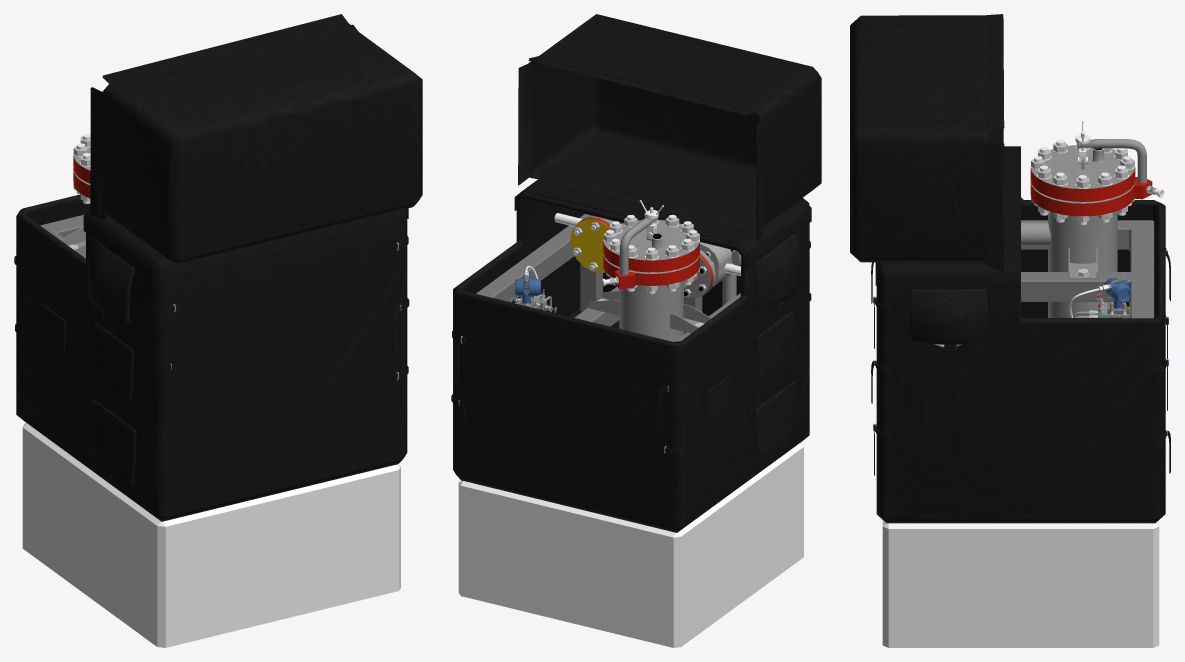
The model's file is Filter_Interactive.fbx.
3 views of the same model, side by side, from view 1: azimuth 30°, elevation 25°; view 2: azimuth 150°, elevation 25°; view 3: azimuth 270°, elevation 25° (orthographic). The views are drawn at different scales.
Parts seen in each view (by area): view 1: Filter_Interactive, Box_Cover_interactive, Box_Cover_Main_Up, Filter_Cap_Down, Box_Armature; view 2: Filter_Interactive, Box_Cover_interactive, Filter_Cap_Down, Box_Cover_Main_Up, Box_Armature, Filter_Cap_UP, Pipe_connector.002, Pipe_crane.016, Filter_Cap_Rotartor, IP.001; view 3: Filter_Interactive, Box_Cover_interactive, Filter_Cap_Down, Box_Cover_Main_Up, Box_Armature, Filter_Cap_UP, Filter_Cap_Rotartor, IP.001, Pipe_connector.002, Cube.200.
Part boxes in pixels (box(x1,y1,x2,y2)): Filter_Interactive: box(14, 194, 409, 647); Box_Cover_interactive: box(90, 14, 422, 264); Box_Cover_Main_Up: box(83, 208, 408, 283); Filter_Cap_Down: box(60, 168, 90, 256); Box_Armature: box(40, 214, 85, 258); Filter_Interactive: box(451, 192, 811, 647); Box_Cover_interactive: box(518, 14, 821, 241); Filter_Cap_Down: box(589, 254, 711, 341); Box_Cover_Main_Up: box(514, 178, 811, 267); Box_Armature: box(476, 214, 740, 341); Filter_Cap_UP: box(603, 219, 699, 272); Pipe_connector.002: box(684, 242, 741, 305); Pipe_crane.016: box(570, 215, 623, 272); Filter_Cap_Rotartor: box(619, 217, 658, 275); IP.001: box(515, 265, 540, 305); Filter_Interactive: box(871, 197, 1170, 647); Box_Cover_interactive: box(850, 14, 1004, 271); Filter_Cap_Down: box(1030, 177, 1152, 317); Box_Cover_Main_Up: box(875, 146, 1020, 288); Box_Armature: box(1021, 220, 1154, 318); Filter_Cap_UP: box(1030, 145, 1135, 201); Filter_Cap_Rotartor: box(1076, 139, 1146, 183); IP.001: box(1069, 278, 1131, 317); Pipe_connector.002: box(1021, 222, 1050, 245); Cube.200: box(1073, 293, 1130, 318).
Size of the model in its own units: 1.64 by 2.84 by 1.58.
